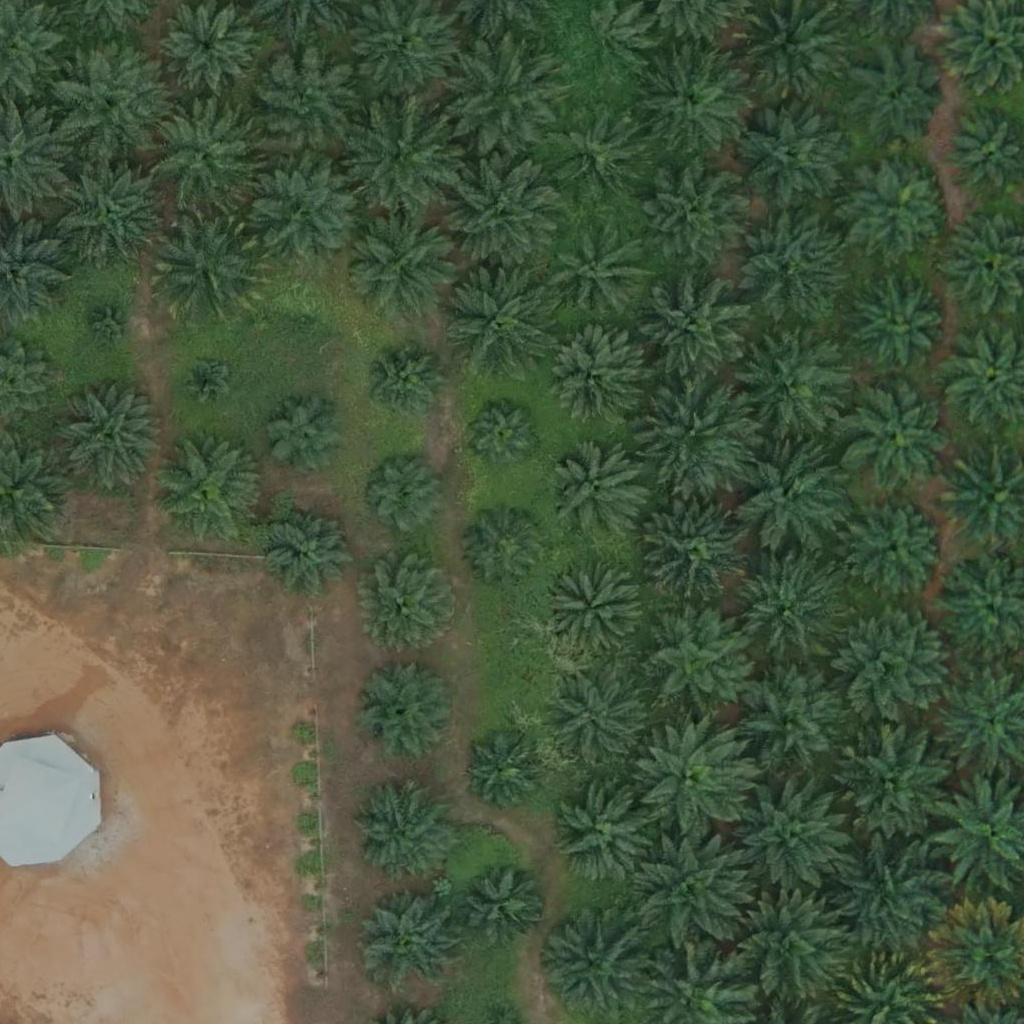Kelapa_Sawit: (442, 257, 555, 371), (342, 98, 455, 212), (537, 908, 650, 1022), (737, 97, 850, 210), (733, 207, 846, 320), (633, 44, 746, 157), (639, 161, 752, 274), (347, 208, 460, 321), (249, 48, 362, 161), (641, 379, 754, 492), (642, 496, 755, 609), (738, 327, 851, 440), (735, 441, 848, 554), (729, 552, 842, 665), (737, 667, 850, 780), (837, 607, 950, 720), (840, 721, 953, 834), (839, 839, 952, 952), (639, 272, 751, 386), (446, 38, 558, 152), (448, 155, 560, 269), (152, 433, 264, 547), (637, 836, 749, 950), (151, 209, 263, 322), (254, 155, 366, 268), (149, 99, 261, 212), (49, 45, 161, 158), (53, 152, 165, 265), (53, 383, 165, 496), (637, 605, 749, 718), (636, 726, 748, 839), (739, 778, 851, 891), (842, 381, 954, 494), (728, 893, 840, 1006), (848, 48, 948, 149), (849, 158, 949, 259), (846, 272, 946, 373), (350, 780, 450, 881), (542, 329, 642, 430), (548, 441, 648, 542), (543, 559, 643, 660), (848, 498, 948, 599), (358, 891, 458, 992), (546, 105, 646, 205), (550, 224, 650, 324), (360, 554, 460, 654), (355, 661, 455, 761), (553, 673, 653, 773), (555, 786, 655, 886), (269, 506, 357, 594), (263, 391, 350, 479), (362, 341, 449, 429), (359, 450, 446, 538), (461, 505, 548, 593), (459, 861, 546, 949), (466, 733, 541, 809), (464, 397, 539, 472), (87, 299, 137, 350), (181, 355, 231, 406), (278, 292, 328, 342)
